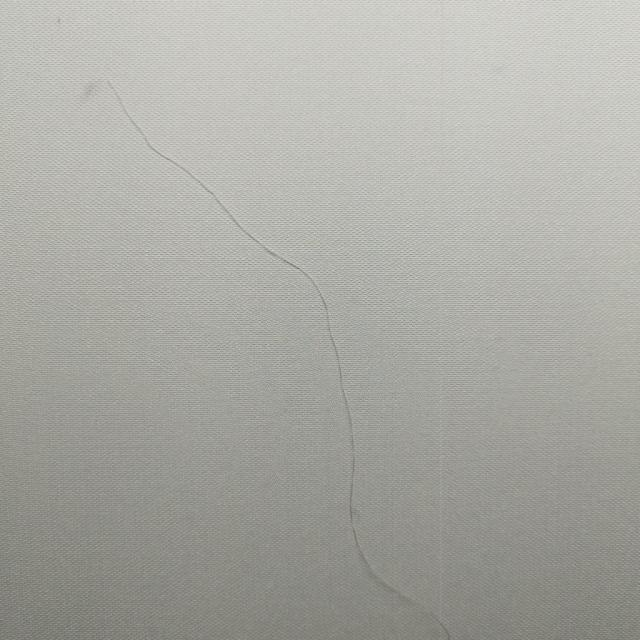Thread: (92, 71, 452, 636)
